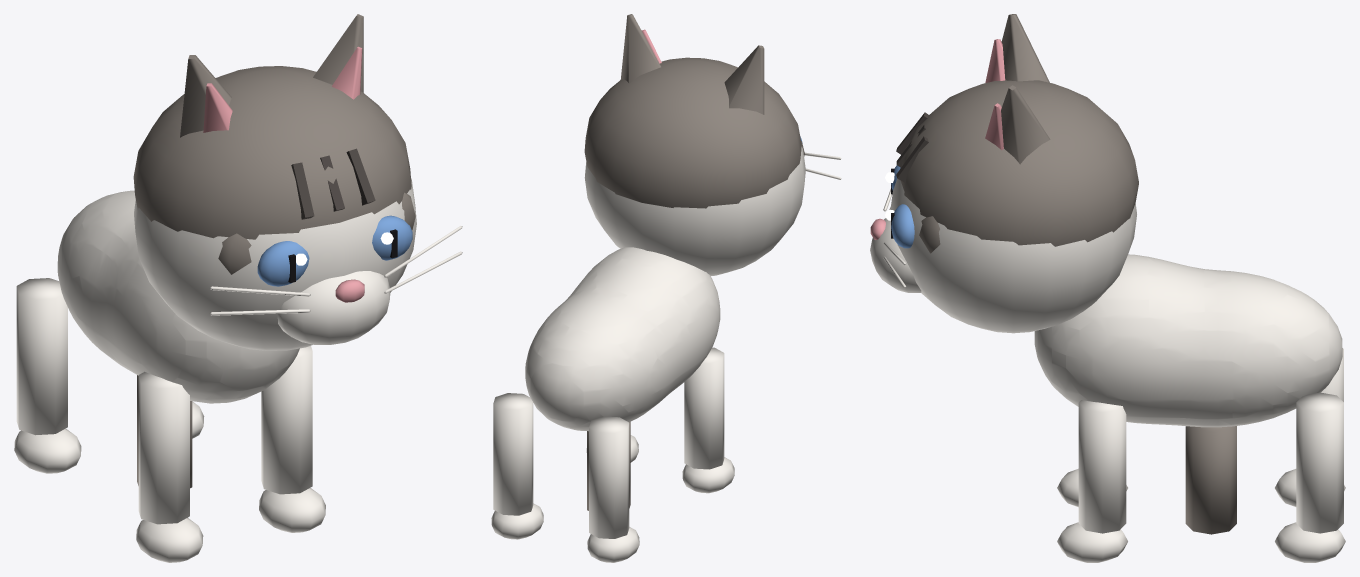
The model's file is kooki.glb.
3 views of the same model, side by side, from view 1: azimuth 30°, elevation 25°; view 2: azimuth 150°, elevation 25°; view 3: azimuth 270°, elevation 25° (orthographic). The views are drawn at different scales.
Visible parts, largest first — view 1: kooki_mask, kooki_body, kooki_head, kooki_leg3, kooki_leg1, kooki_leg0, kooki_muzzle, kooki_paw3, kooki_paw1, kooki_paw0, kooki_ear-1, kooki_ear1 (+8 smaller); view 2: kooki_body, kooki_mask, kooki_head, kooki_leg3, kooki_leg2, kooki_leg1, kooki_ear-1, kooki_ear1, kooki_paw1, kooki_paw2, kooki_paw3; view 3: kooki_body, kooki_mask, kooki_head, kooki_leg2, kooki_leg0, kooki_tailseg0, kooki_ear1, kooki_paw2, kooki_paw0, kooki_ear-1, kooki_muzzle, kooki_eye1 (+3 smaller).
Boxes of the visible parts, bbox=[...] form: kooki_mask: bbox=[133, 66, 411, 239]; kooki_body: bbox=[57, 190, 299, 403]; kooki_head: bbox=[134, 178, 416, 350]; kooki_leg3: bbox=[16, 278, 67, 435]; kooki_leg1: bbox=[138, 371, 189, 524]; kooki_leg0: bbox=[261, 345, 312, 494]; kooki_muzzle: bbox=[277, 271, 390, 344]; kooki_paw3: bbox=[14, 428, 81, 473]; kooki_paw1: bbox=[136, 517, 203, 562]; kooki_paw0: bbox=[259, 487, 325, 532]; kooki_ear-1: bbox=[180, 55, 231, 137]; kooki_ear1: bbox=[313, 14, 363, 92]; kooki_body: bbox=[525, 247, 720, 431]; kooki_mask: bbox=[584, 57, 801, 208]; kooki_head: bbox=[584, 146, 805, 275]; kooki_leg3: bbox=[589, 416, 629, 538]; kooki_leg2: bbox=[493, 393, 533, 515]; kooki_leg1: bbox=[684, 347, 724, 469]; kooki_ear-1: bbox=[724, 45, 764, 114]; kooki_ear1: bbox=[620, 14, 660, 83]; kooki_paw1: bbox=[682, 457, 734, 493]; kooki_paw2: bbox=[491, 503, 543, 539]; kooki_paw3: bbox=[587, 527, 639, 562]; kooki_body: bbox=[1034, 254, 1342, 427]; kooki_mask: bbox=[900, 80, 1138, 246]; kooki_head: bbox=[890, 178, 1136, 333]; kooki_leg2: bbox=[1296, 392, 1343, 533]; kooki_leg0: bbox=[1078, 400, 1126, 533]; kooki_tailseg0: bbox=[1185, 426, 1236, 534]; kooki_ear1: bbox=[1001, 85, 1050, 164]; kooki_paw2: bbox=[1275, 522, 1345, 562]; kooki_paw0: bbox=[1057, 522, 1127, 562]; kooki_ear-1: bbox=[1001, 14, 1049, 82]; kooki_muzzle: bbox=[870, 218, 921, 292]; kooki_eye1: bbox=[891, 204, 914, 248].
Size of the model in its own units: 0.2639 by 0.5382 by 0.481.
